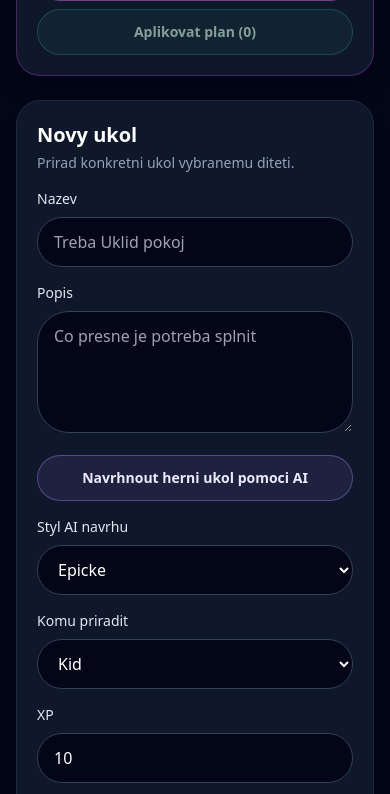
it: posila zvoleny styl a umi zkusit navrh znovu
The width and height of the screenshot is (390, 794).
(page scrolled)
Expected: the heading "Novy ukol" is shown, [37,121,137,148]
Step 1. Type "Nakrm kocku" into the text box labelled "Popis" → (195, 372), box [37,311,353,433]
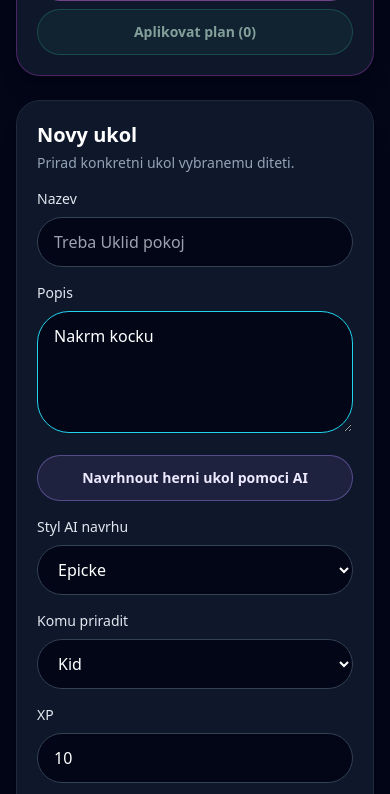
Step 2. Select "Vtipne" in the dropdown labelled "Styl AI navrhu" → (195, 570), box [37,545,353,595]
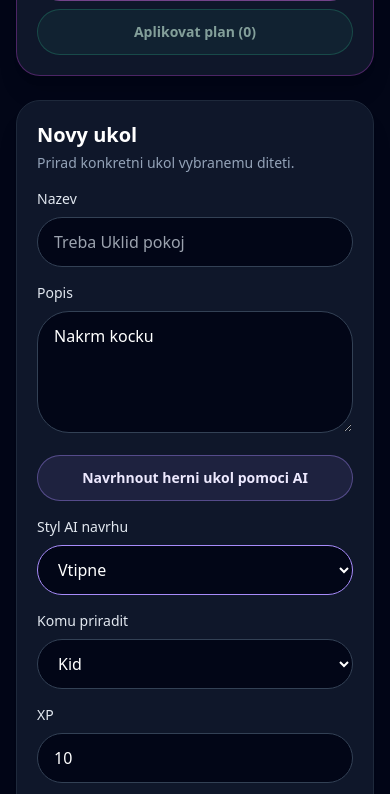
Step 3. Click the button "Navrhnout herni ukol pomoci AI" → (195, 478), box [37,455,353,501]
(page scrolled)
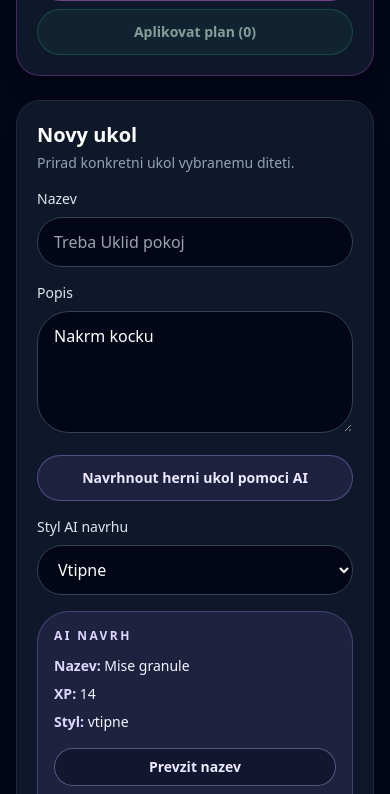
Expected: the text "Nazev: Mise granule" is shown, [54,656,190,675]
Step 4. Select "Kratke" in the dropdown labelled "Styl AI navrhu" → (195, 570), box [37,545,353,595]
(page scrolled)
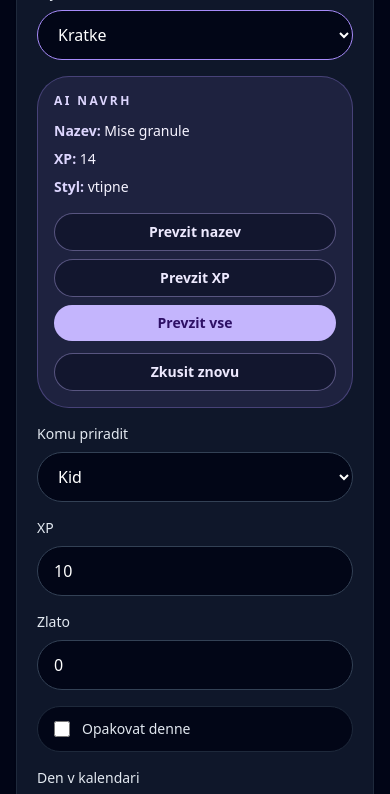
Step 5. Click the button "Zkusit znovu" → (195, 372), box [54,353,336,391]
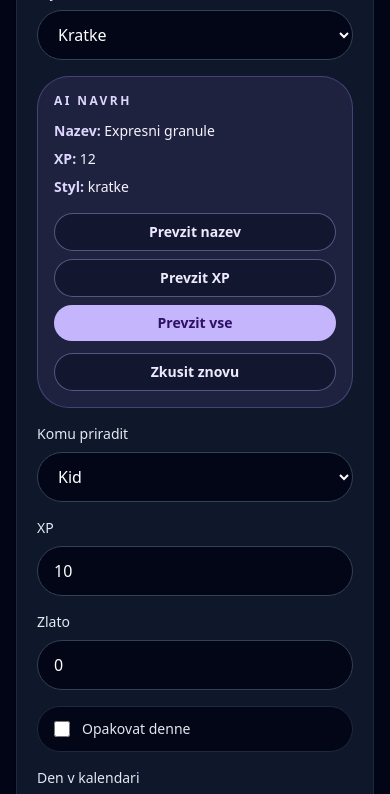
Expected: the text "Nazev: Expresni granule" is shown, [54,121,215,140]
